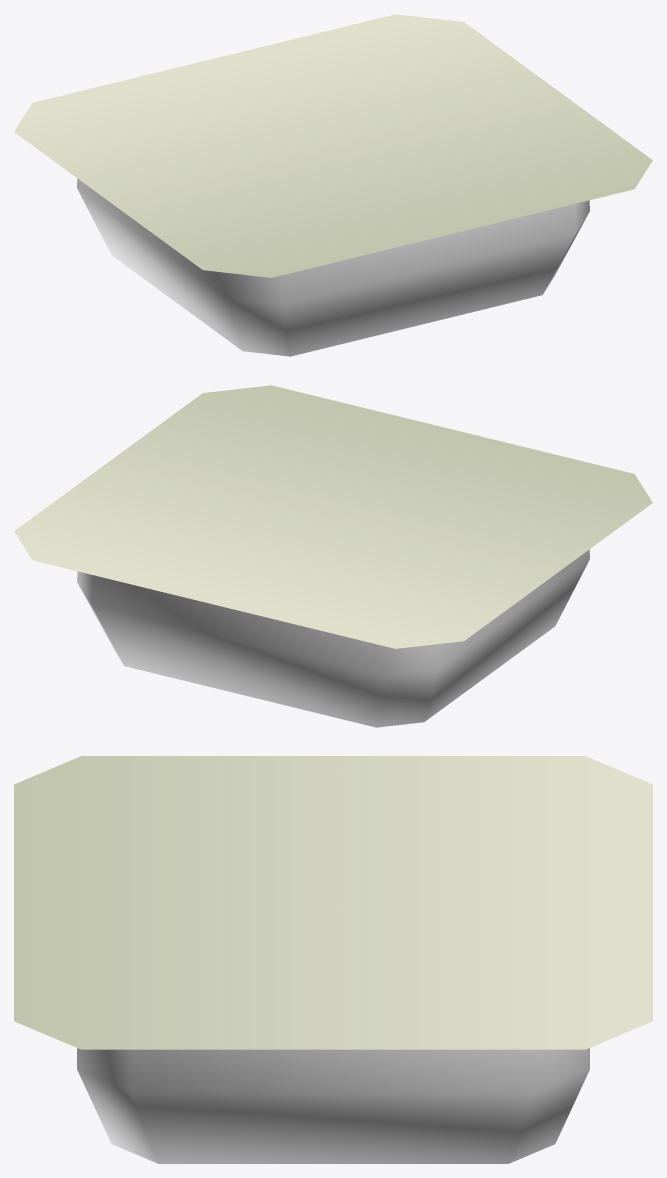
The model's file is Pat Of Butter.FBX.
The picture shows the model from 3 angles, top to bottom: view 1: azimuth 30°, elevation 25°; view 2: azimuth 150°, elevation 25°; view 3: azimuth 270°, elevation 25°; orthographic projection. The views are drawn at different scales.
Visible parts, largest first — view 1: Pat Of Butter; view 2: Pat Of Butter; view 3: Pat Of Butter.
Part boxes in pixels (left/top/right/bottom): Pat Of Butter: left=14, top=14, right=652, bottom=356; Pat Of Butter: left=14, top=385, right=652, bottom=727; Pat Of Butter: left=14, top=756, right=652, bottom=1163.
Bounding box in the file's own units: 48.22 × 12.18 × 44.36.
